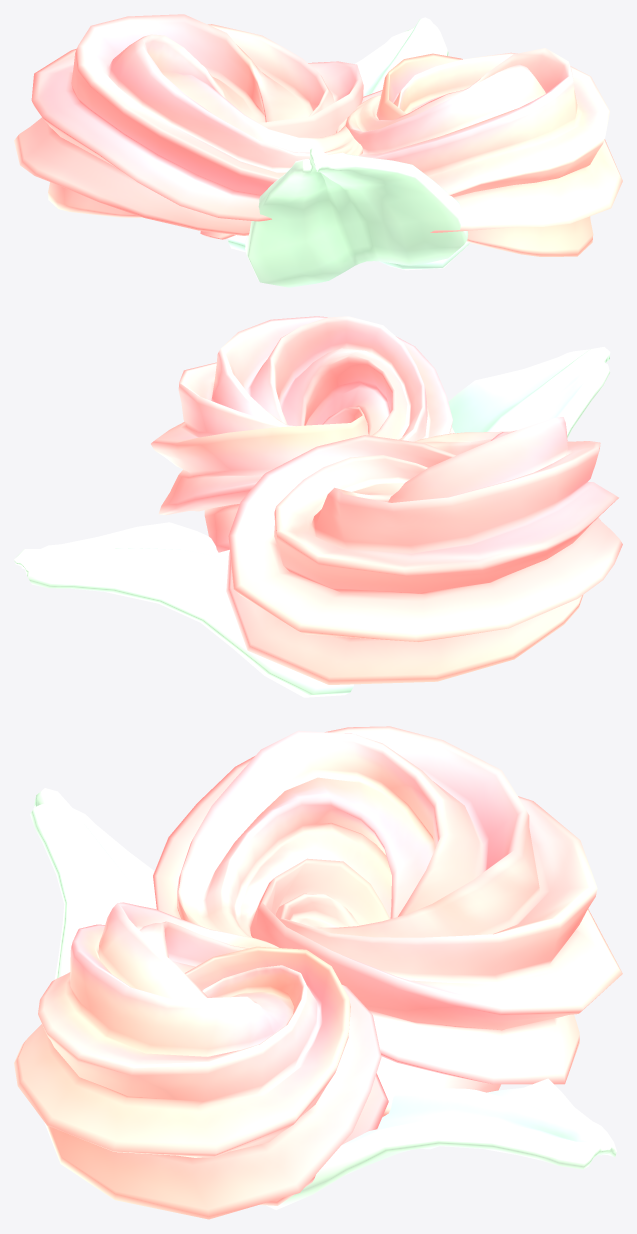
The model's file is lisczkremem_bok.glb.
The picture shows the model from 3 angles, top to bottom: view 1: azimuth 30°, elevation 25°; view 2: azimuth 150°, elevation 25°; view 3: azimuth 270°, elevation 25°; orthographic projection. The views are drawn at different scales.
Visible parts, largest first — view 1: Rose5; view 2: Rose5; view 3: Rose5.
Part boxes in pixels (<box>): Rose5: <box>14,14,622,287</box>; Rose5: <box>14,316,622,697</box>; Rose5: <box>14,726,622,1219</box>.
Size of the model in its own units: 0.016 by 0.00809 by 0.0139.
1 material, 1 textured.
